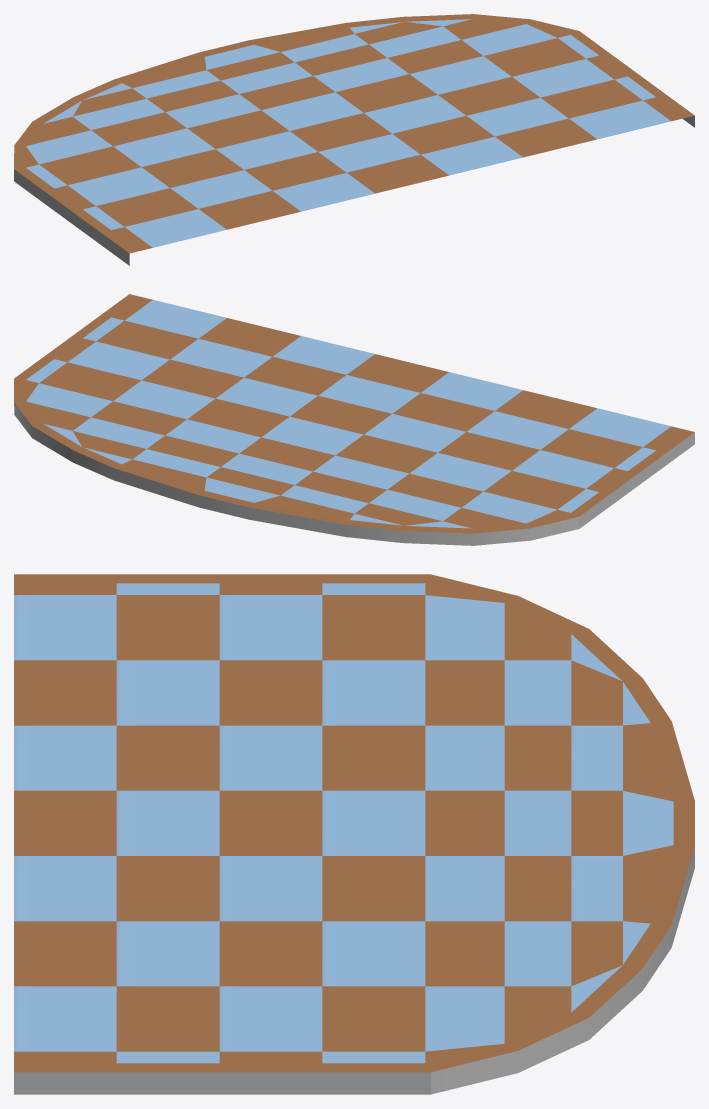
File: SM_AP_Ground_001.fbx
3 renders of one model, top to bottom at view 1: azimuth 30°, elevation 25°; view 2: azimuth 150°, elevation 25°; view 3: azimuth 270°, elevation 25°, orthographic. The views are drawn at different scales.
Visible parts, largest first — view 1: SM_AP_Ground_001; view 2: SM_AP_Ground_001; view 3: SM_AP_Ground_001.
Part boxes in pixels (bbox=[...]): SM_AP_Ground_001: bbox=[14, 14, 694, 265]; SM_AP_Ground_001: bbox=[14, 294, 694, 545]; SM_AP_Ground_001: bbox=[14, 574, 694, 1094].
Size of the model in its own units: 153 by 3.18 by 88.24.
